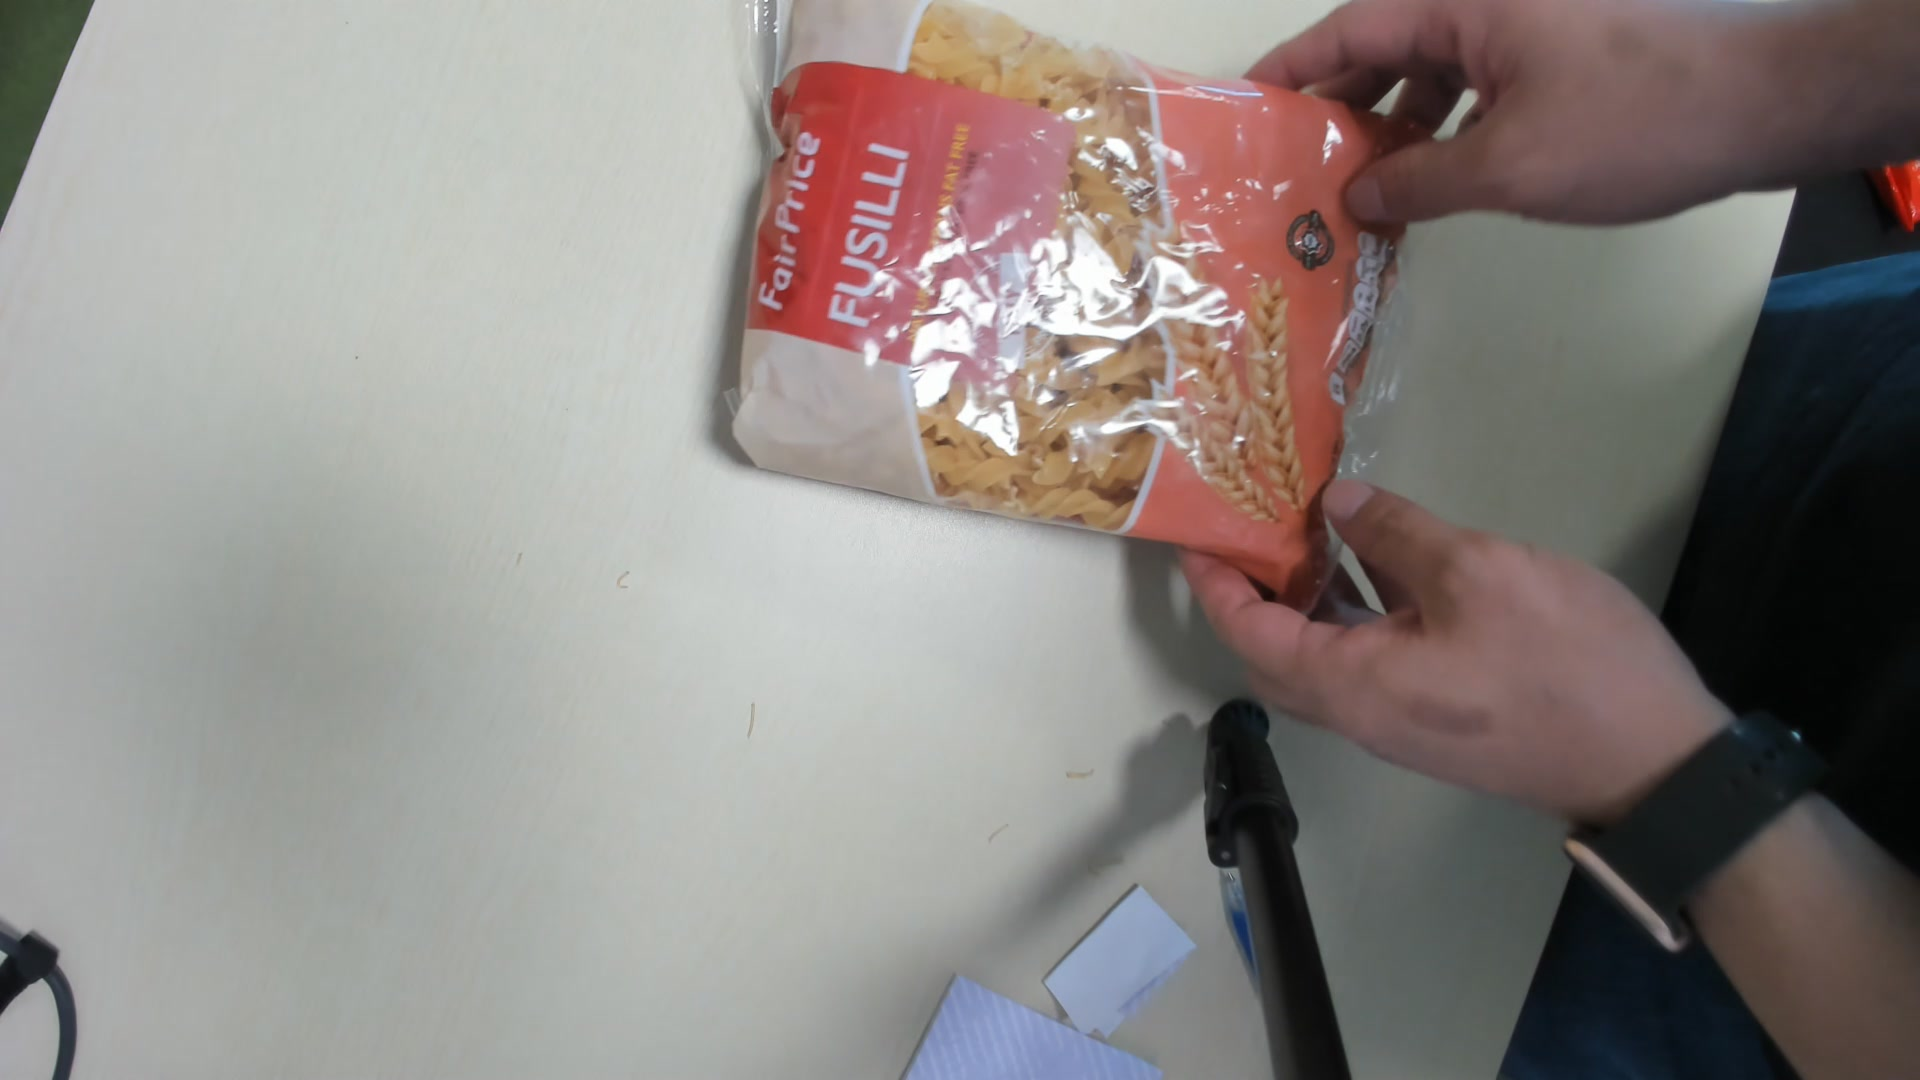Pasta_500-599g_Halal_NonHealthy: (731, 3, 1402, 600)
